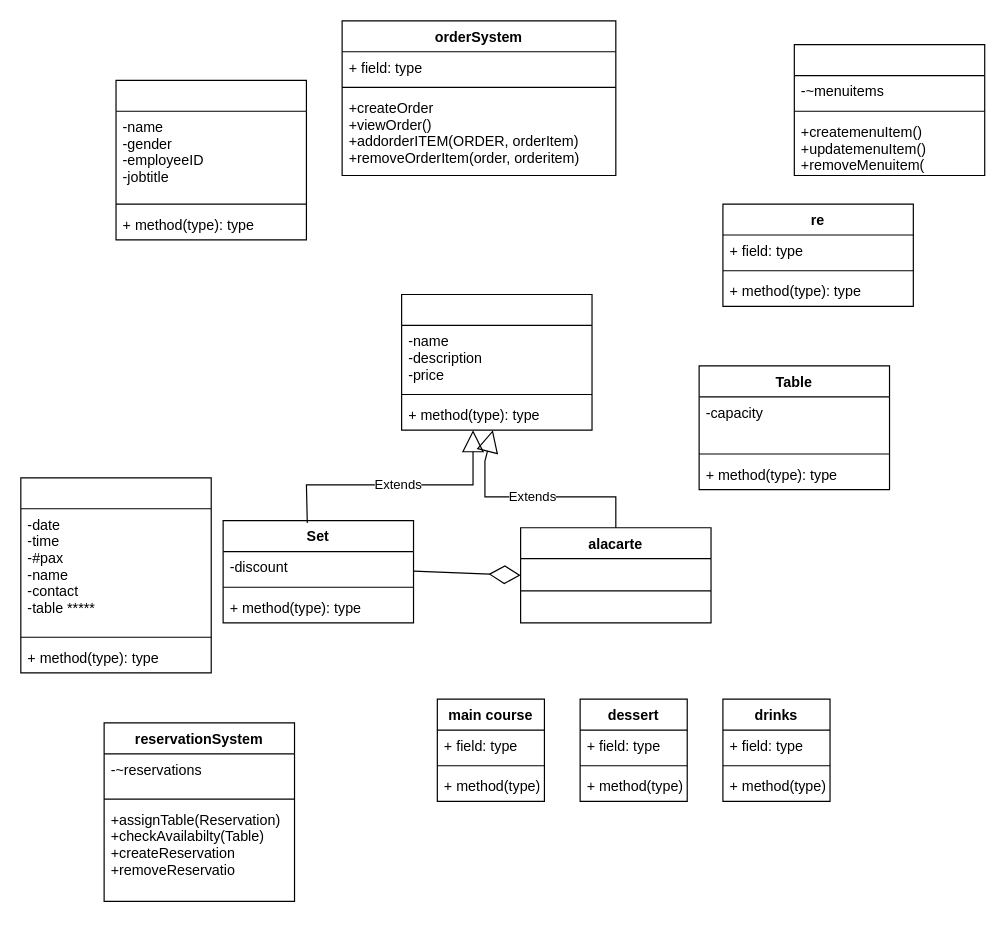
Image size: 1006x926. Some labels were removed from this diagram. Each missing label, with the box of its shape:
MenuItem: (400, 293, 592, 430)
menuSystem: (793, 43, 985, 176)
reservation: (20, 477, 211, 673)
staff: (115, 79, 306, 240)
